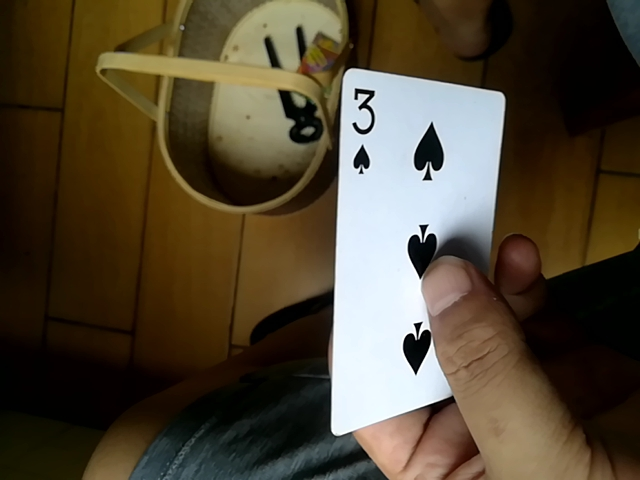ht 3: (328, 62, 498, 445)
